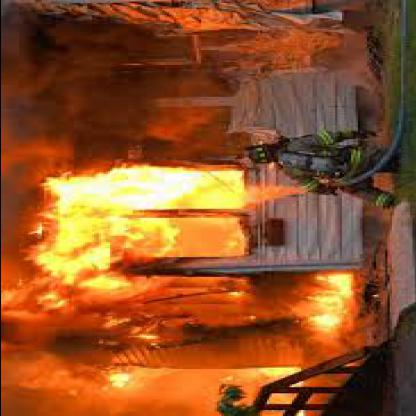Fire: (43, 178, 172, 258)
